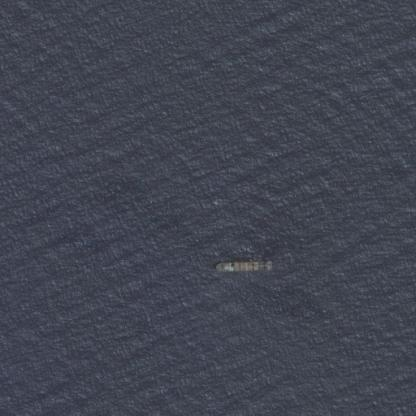ship: (213, 258, 275, 273)
